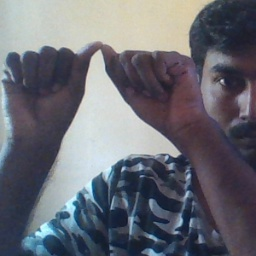A: (11, 37, 189, 138)
